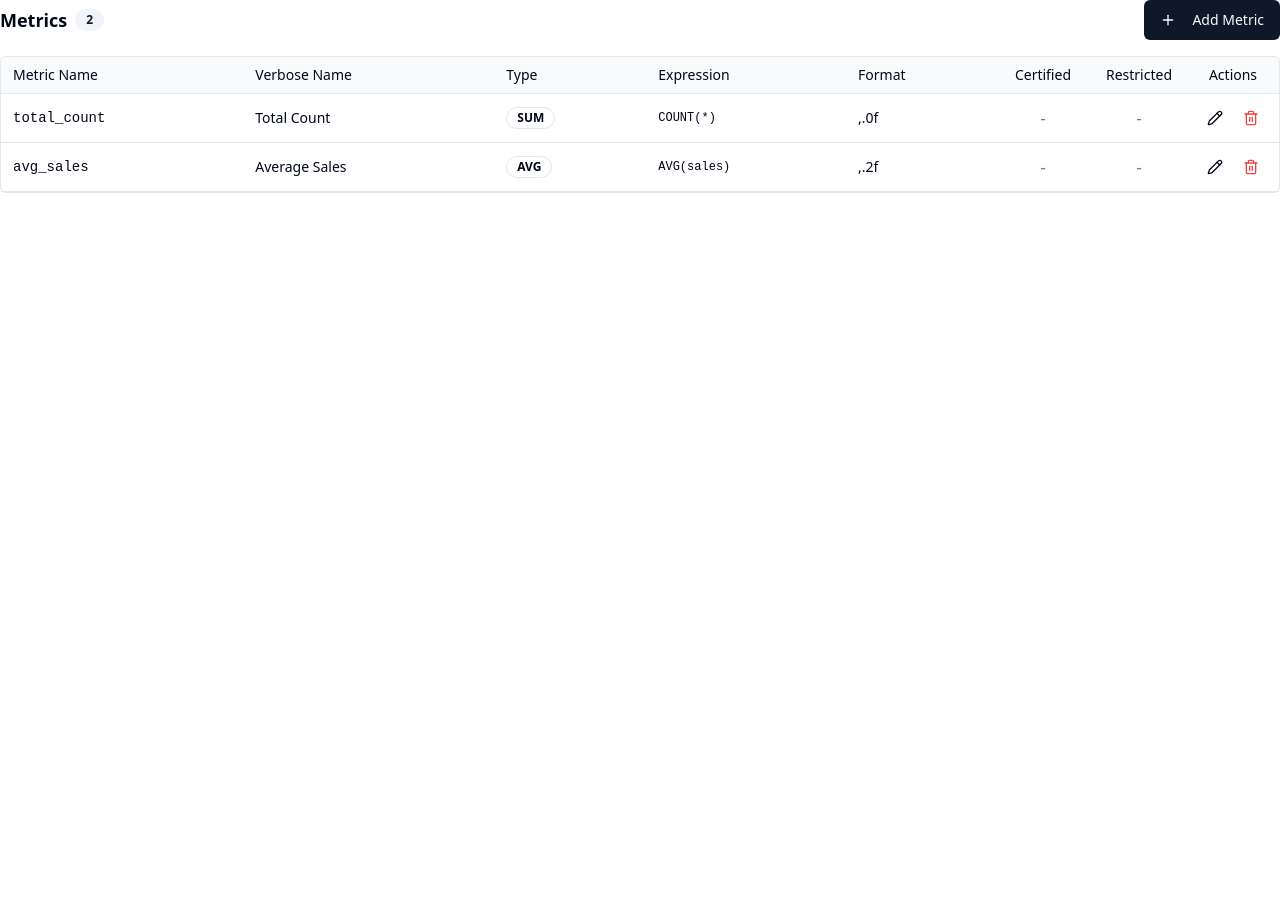
Test: MetricsTab › edit metric › opens edit dialog when edit button is clicked
Click the 2nd button: point(1215, 118) [1199,102,1231,134]
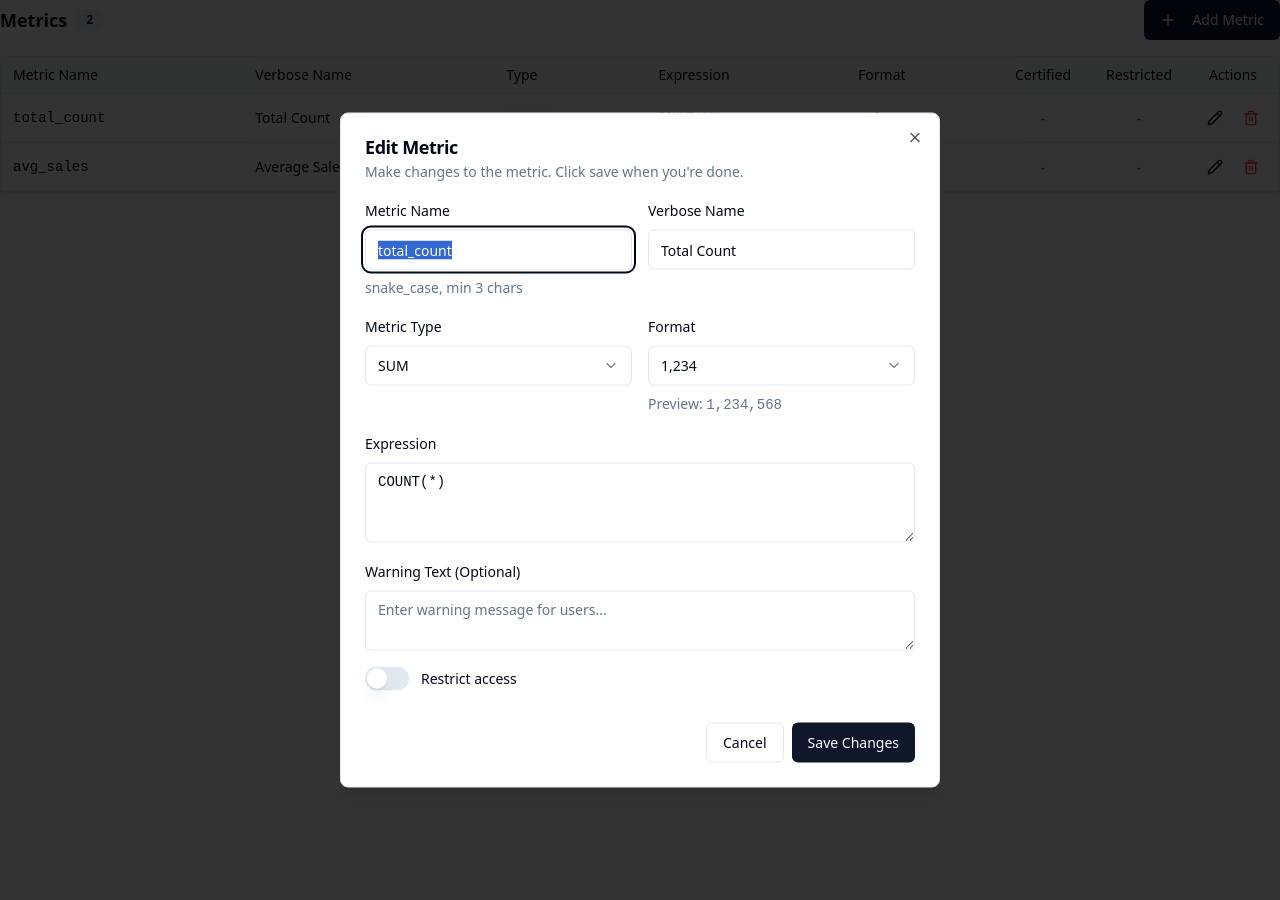
Result: the dialog is shown at [340,112,940,788]
Result: the heading "Edit Metric" is shown at [365,134,458,158]
Result: the field showing "total_count" is shown at [365,230,632,270]
